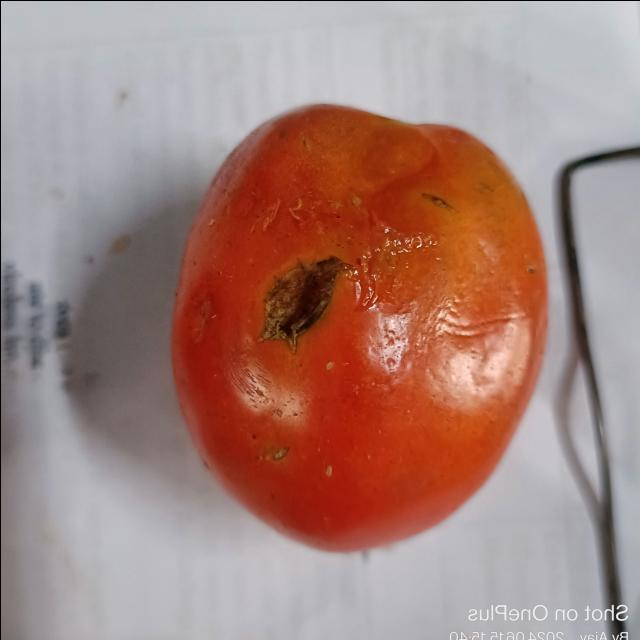Botrytis: (259, 252, 349, 344), (416, 185, 456, 213)
